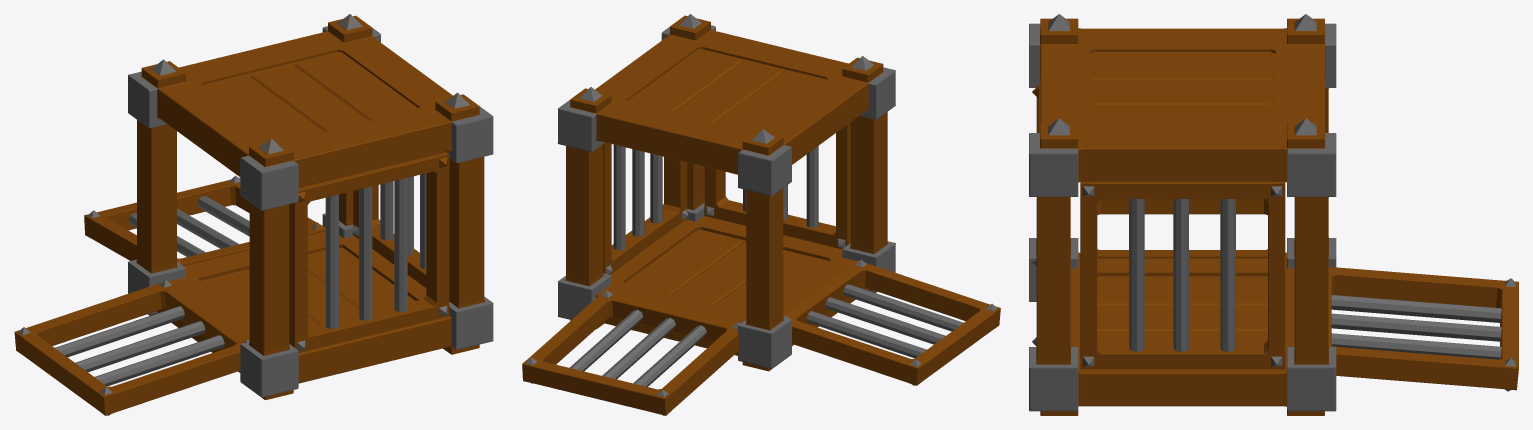
Rendered from SM_Cage_01.fbx.
3 views of the same model, side by side, from view 1: azimuth 30°, elevation 25°; view 2: azimuth 150°, elevation 25°; view 3: azimuth 270°, elevation 25° (orthographic). The views are drawn at different scales.
Visible parts, largest first — view 1: c; view 2: c; view 3: c.
Boxes of the visible parts, x1,y1,x2,y2 form: c: [14, 14, 493, 415]; c: [522, 14, 1000, 415]; c: [1029, 14, 1518, 415].
Bounding box in the file's own units: 684 × 449 × 689.
